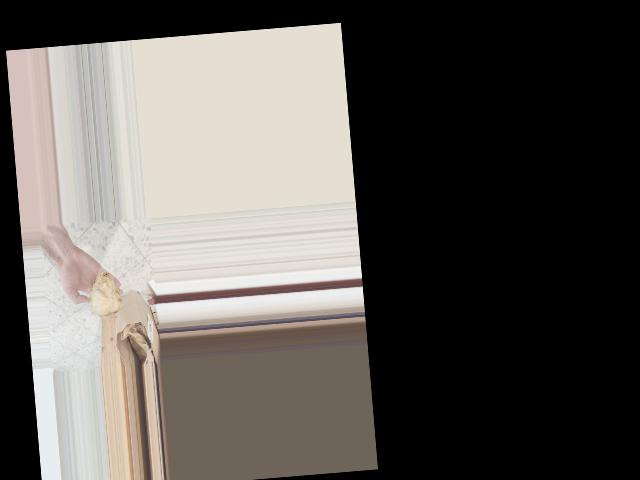onion: (81, 266, 125, 321)
